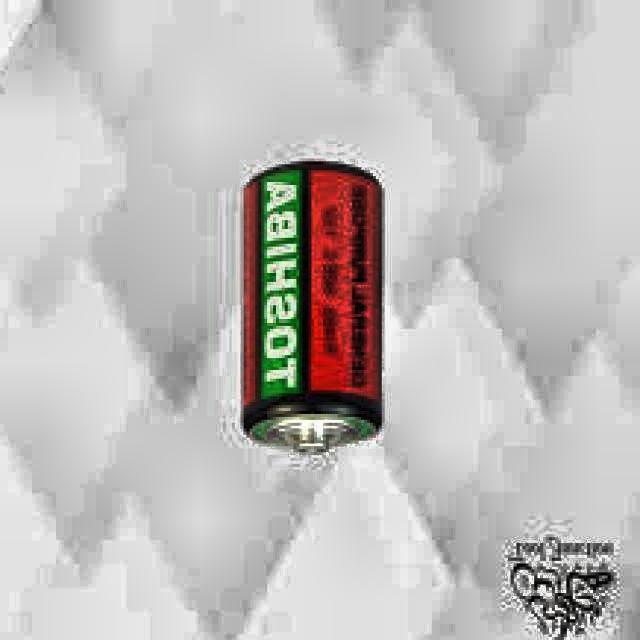battery: (242, 162, 384, 454)
